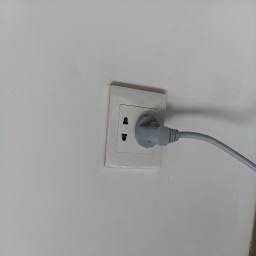outlet: (100, 84, 171, 176)
